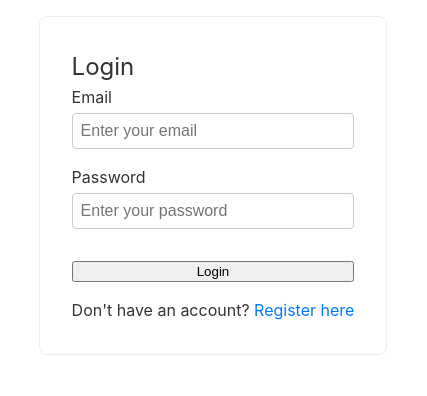
LoginPage › displays error message if API returns non-JSON error or network error
The image size is (427, 396).
Type "test@example.com" into the field labelled "Email" at x=213, y=131, box [72,113,354,149]
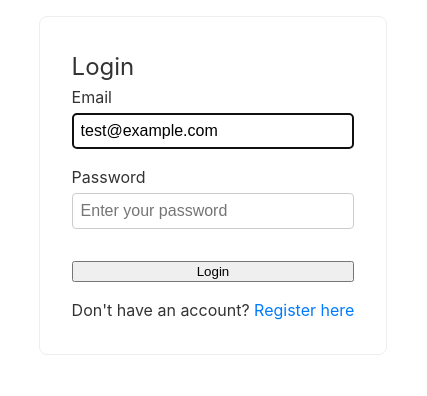
Type "password" into the password field labelled "Password" at x=213, y=211, box [72,193,354,229]
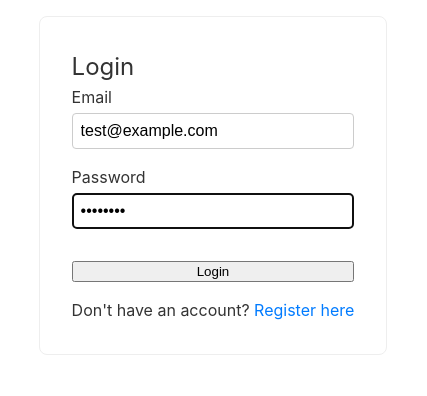
Click the button "Login" at x=213, y=272, box [72,261,354,282]
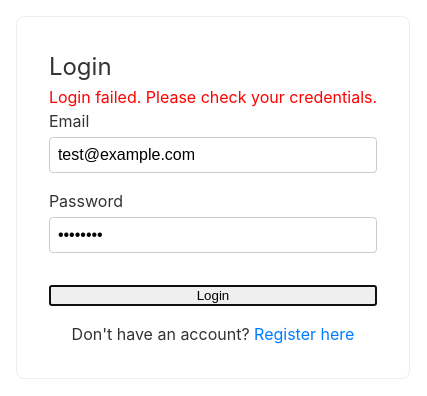
Now the text "Login failed. Please check your credentials." is shown, box [49,85,377,109]
